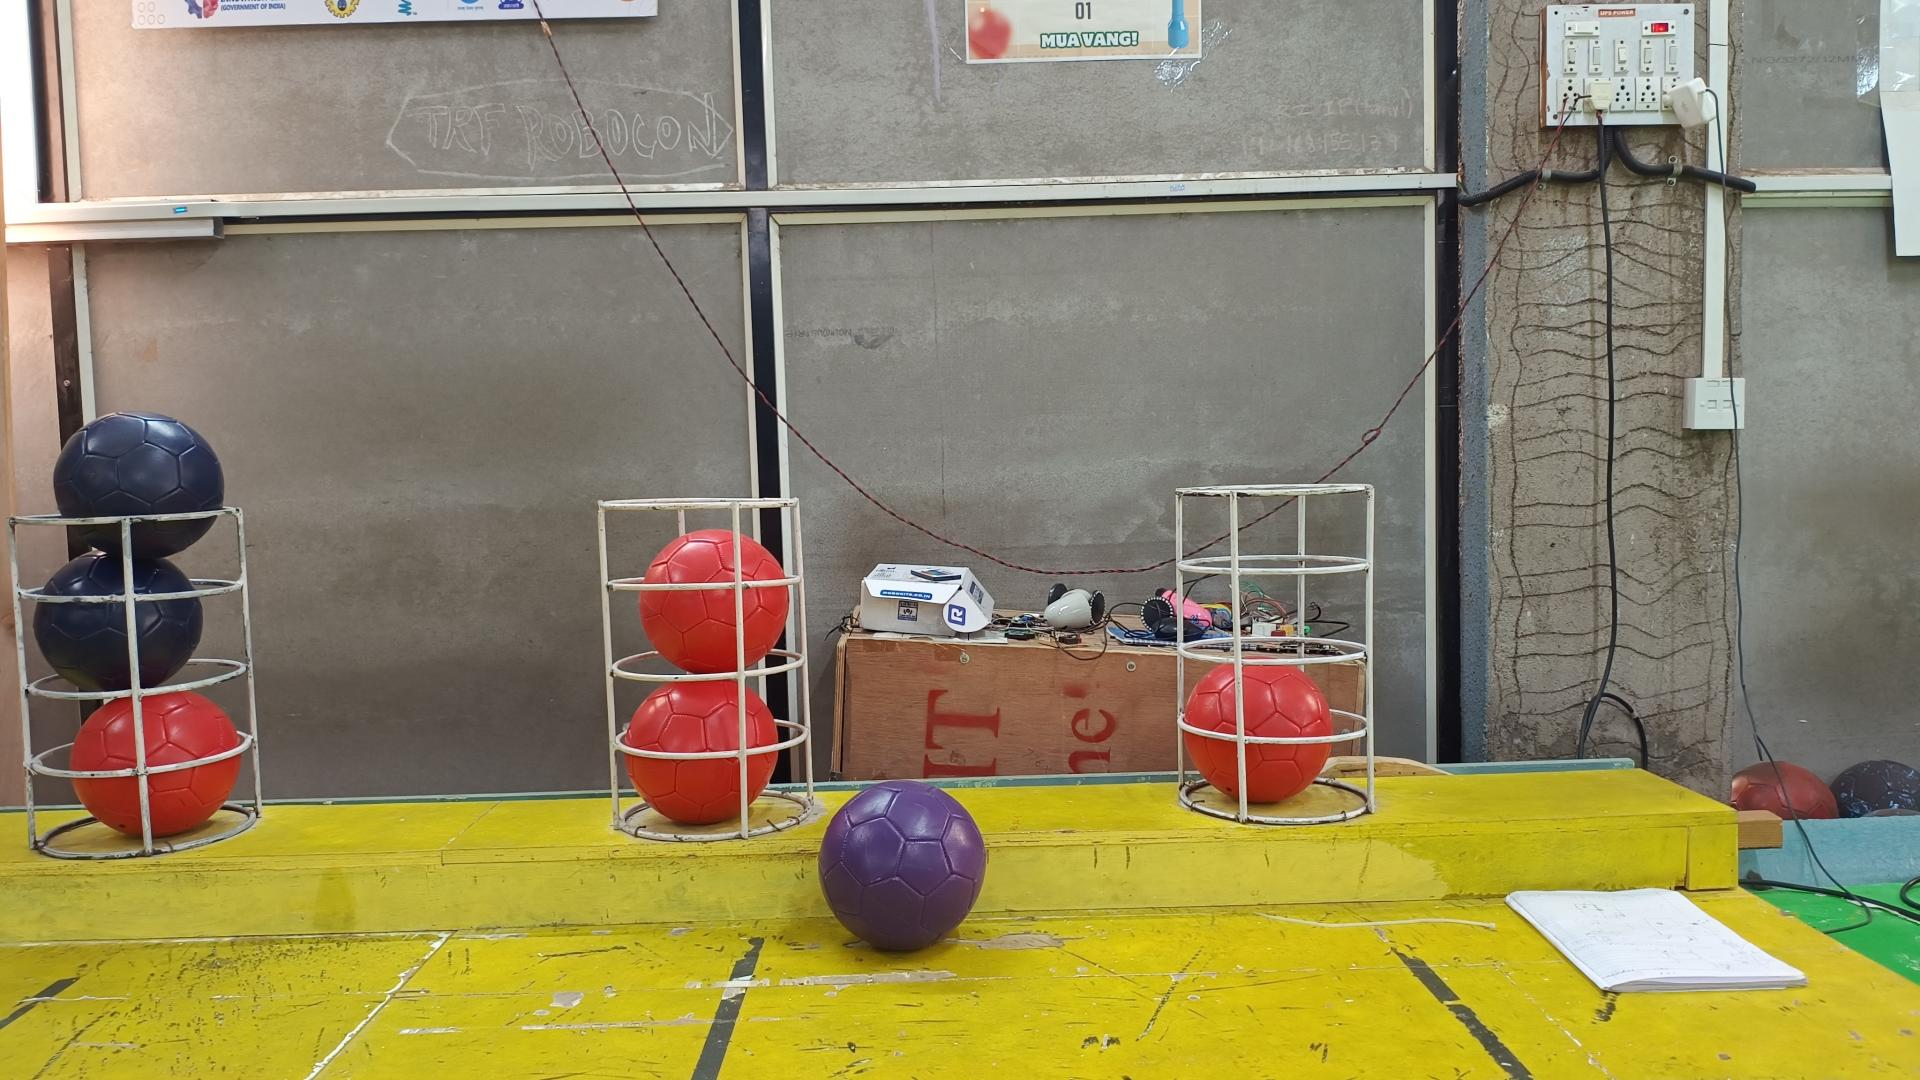dhoka: (51, 410, 224, 560), (32, 547, 200, 694)
laale: (70, 688, 243, 837), (622, 680, 779, 823), (641, 527, 791, 674), (1187, 658, 1337, 800)
